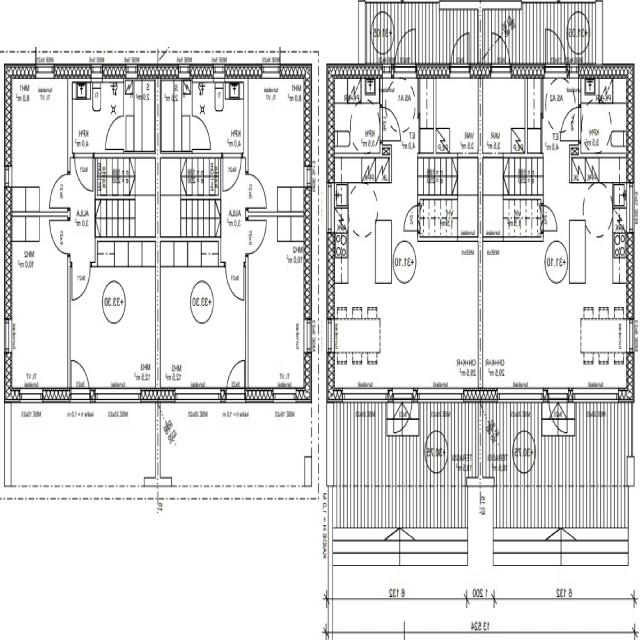door: (394, 23, 416, 78), (545, 26, 566, 78), (451, 30, 470, 78), (549, 388, 567, 437), (492, 30, 510, 78), (394, 388, 412, 436), (72, 355, 90, 399), (227, 355, 244, 399), (190, 116, 211, 150), (223, 153, 241, 192), (75, 154, 93, 192), (226, 262, 244, 300), (72, 262, 90, 300), (380, 107, 400, 140), (106, 116, 126, 149), (246, 175, 266, 208), (246, 220, 266, 253), (50, 220, 70, 253), (50, 175, 70, 208), (561, 108, 581, 140), (540, 205, 558, 231), (404, 206, 421, 231)
